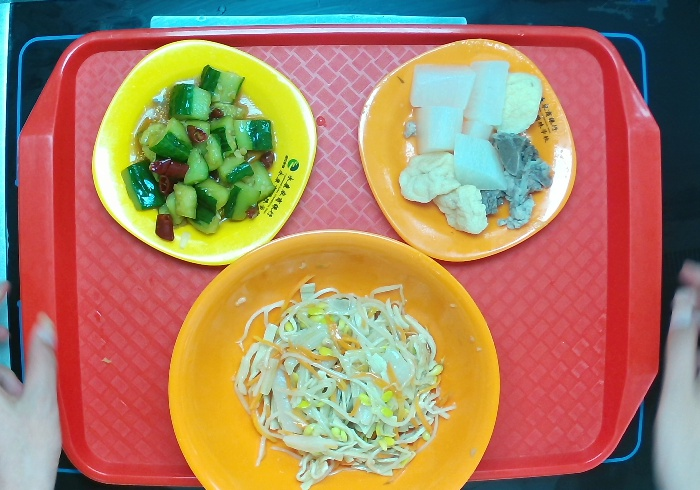YKMZ-Huang_Se_Fang_Die: (90, 38, 319, 267)
YKMZ-Ju_Se_Fang_Die: (356, 37, 578, 263)
YKMZ-Ju_Se_Tang_Wan: (166, 226, 502, 490)
